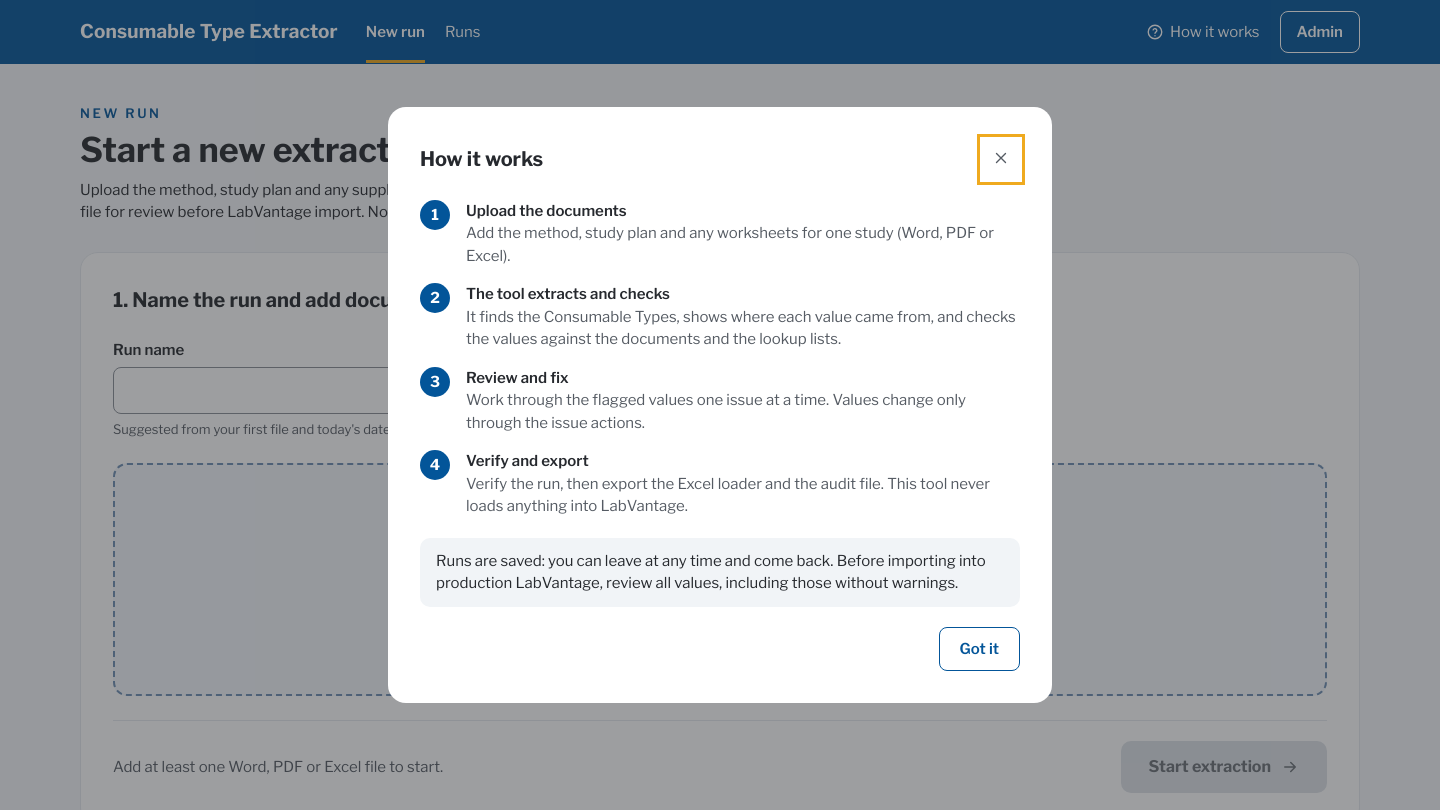
Scenario: How it works popup › blocked storage still shows the popup and closing does not crash
Expected: the dialog is shown, [388,107,1052,703]
Step 1. Click the button named "Close how it works" → (1001, 159), box [982,139,1020,180]
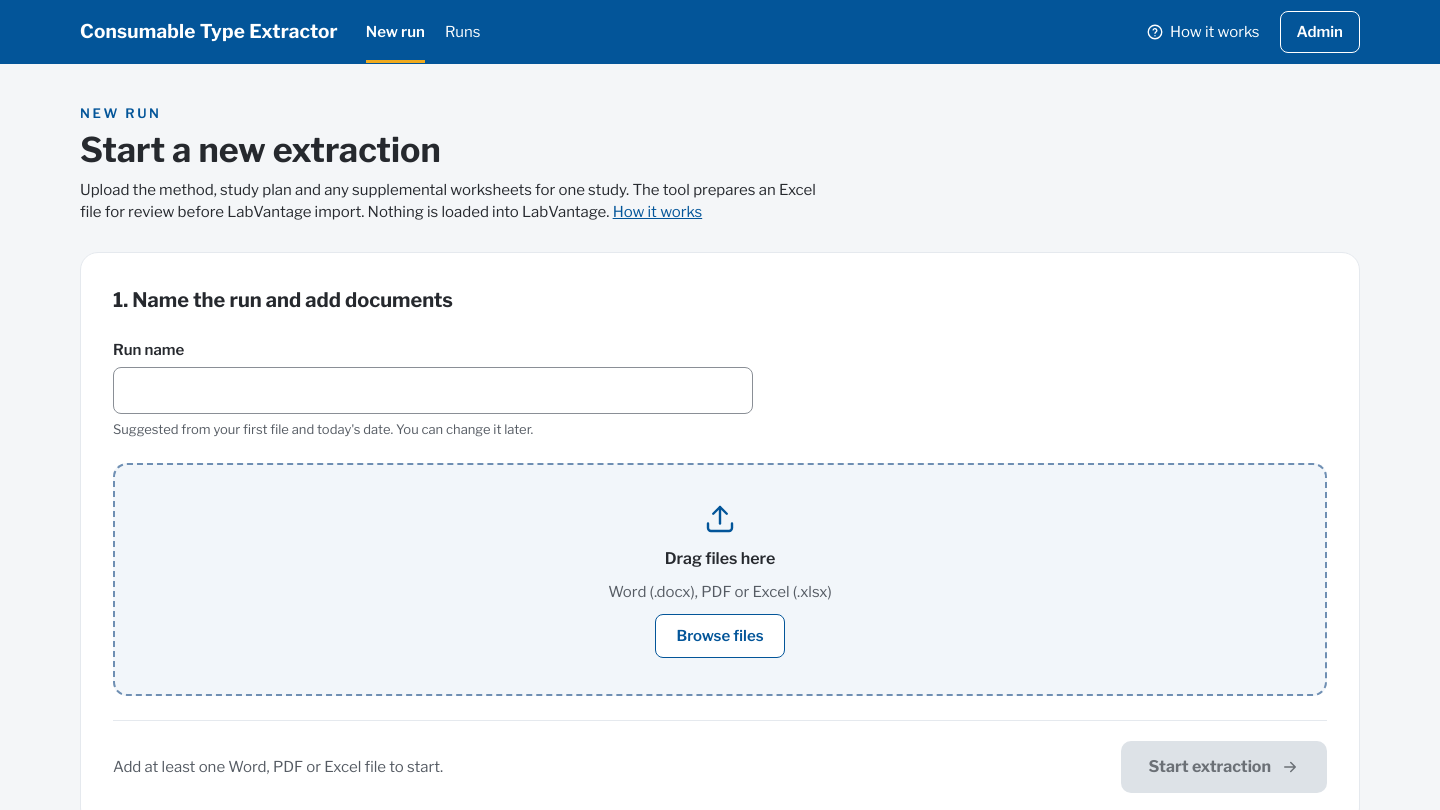
Expected: the dialog is gone
